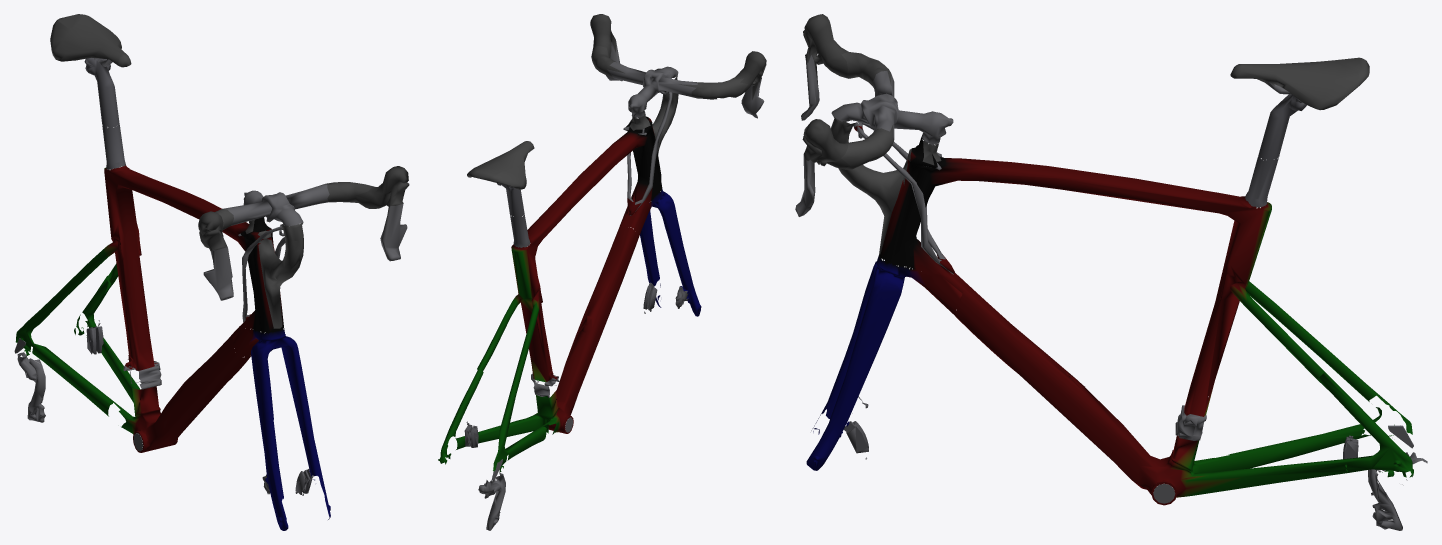
Rendered from roubaix61_lod2.glb.
3 renders of one model, left to right at view 1: azimuth 30°, elevation 25°; view 2: azimuth 150°, elevation 25°; view 3: azimuth 270°, elevation 25°, orthographic. The views are drawn at different scales.
Parts seen in each view (by area): view 1: frame, cockpit, fork, saddle, seatpost; view 2: frame, cockpit, fork, saddle, seatpost; view 3: frame, cockpit, fork, saddle, seatpost.
Part boxes in pixels (box(x1,y1,x2,y2)): frame: box(14, 165, 303, 452); cockpit: box(198, 166, 409, 300); fork: box(232, 326, 330, 530); saddle: box(50, 14, 131, 127); seatpost: box(102, 124, 125, 169); frame: box(438, 75, 678, 530); cockpit: box(590, 14, 766, 118); fork: box(620, 188, 701, 316); saddle: box(467, 141, 534, 217); seatpost: box(510, 214, 530, 247); frame: box(831, 115, 1427, 530); cockpit: box(795, 14, 953, 216); fork: box(806, 255, 965, 470); saddle: box(1230, 57, 1369, 160); seatpost: box(1245, 155, 1279, 207).
Bounding box in the file's own units: 0.4944 × 0.9316 × 1.12.
